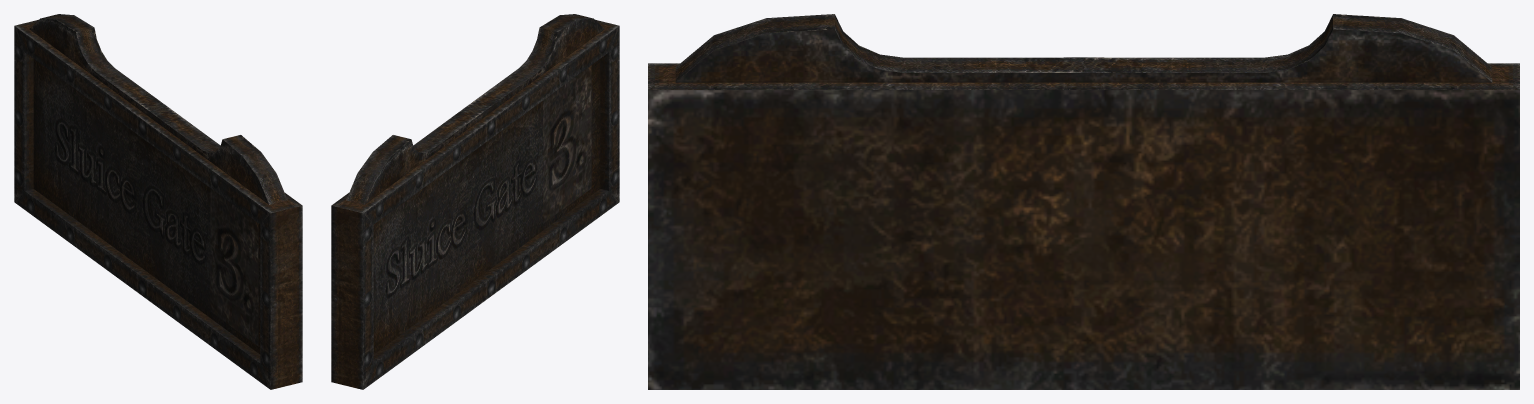
The model's file is sluice_sign_03.DAE.
3 views of the same model, side by side, from view 1: azimuth 30°, elevation 25°; view 2: azimuth 150°, elevation 25°; view 3: azimuth 270°, elevation 25° (orthographic). The views are drawn at different scales.
Visible parts, largest first — view 1: sluice_signs; view 2: sluice_signs; view 3: sluice_signs.
Boxes of the visible parts, x1,y1,x2,y2 form: sluice_signs: (14,14,302,389); sluice_signs: (331,14,619,389); sluice_signs: (648,14,1519,389).
Bounding box in the file's own units: 0.1064 × 1.48 × 0.6642.
